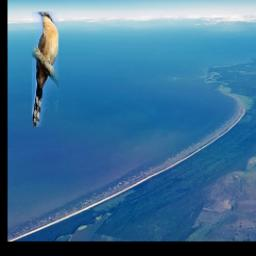Cuckoo: (33, 12, 59, 127)
